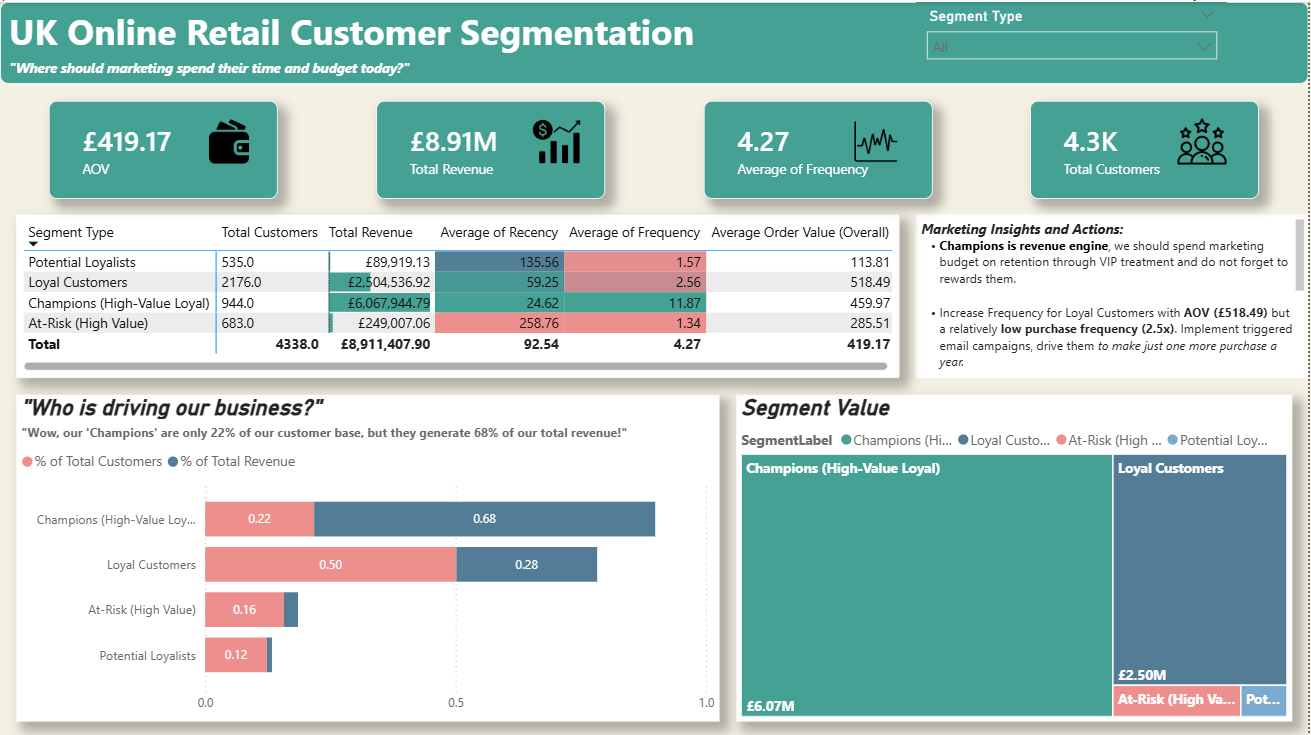

The dashboard page shown, as its layout file describes it:
{"tool":"powerbi","page":{"name":"Page 1","canvas":[1280,720],"ordinal":0},"visuals":[{"type":"cardVisual","fields":{"Data":["Avg(customer_segments.AvgOrderValue)"]},"box":[48,96,224,96],"z":0,"group":"g1"},{"type":"cardVisual","fields":{"Data":["customer_segments.Total Revenue"]},"box":[368,96,224,96],"z":1000,"group":"g2"},{"type":"cardVisual","fields":{"Data":["Avg(customer_segments.Frequency)"]},"box":[688,96,224,96],"z":2000,"group":"g3"},{"type":"cardVisual","fields":{"Data":["customer_segments.Total Customers"]},"box":[1008,96,224,96],"z":3000,"group":"g4"},{"type":"barChart","title":"\"Who is driving our business?\"","fields":{"Category":["customer_segments.SegmentLabel"],"Y":["customer_segments.% of Total Customers","customer_segments.% of Total Revenue"]},"box":[16,384,688,320],"z":4000},{"type":"treemap","title":"Segment Value","fields":{"Group":["customer_segments.SegmentLabel"],"Values":["customer_segments.Total Revenue"]},"box":[720,384,544,320],"z":5000},{"type":"textbox","box":[896,208,384,160],"z":6000},{"type":"textbox","title":"UK Online Retail Customer Segmentation ","box":[0,0,1280,80],"z":7000},{"type":"slicer","fields":{"Values":["customer_segments.SegmentLabel"]},"box":[896,0,304,64],"z":7500},{"type":"pivotTable","fields":{"Rows":["customer_segments.SegmentLabel"],"Values":["customer_segments.Total Customers","customer_segments.Total Revenue","Avg(customer_segments.Recency)","Avg(customer_segments.Frequency)","customer_segments.Average Order Value (Overall)"]},"box":[16,208,864,160],"z":8000},{"type":"image","box":[176,112,96,48],"z":8001,"group":"g1"},{"type":"image","box":[496,112,96,48],"z":8002,"group":"g2"},{"type":"group","id":"g1","title":"Group 1","box":[48,96,224,96],"z":8003},{"type":"group","id":"g2","title":"Group 2","box":[368,96,224,96],"z":8004},{"type":"image","box":[816,112,80,48],"z":8005,"group":"g3"},{"type":"group","id":"g3","title":"Group 3","box":[688,96,224,96],"z":8006},{"type":"image","box":[1152,112,48,48],"z":8007,"group":"g4"},{"type":"group","id":"g4","title":"Group 4","box":[1008,96,224,96],"z":8008}]}

Visuals, with their boxes in screenshot pixels (x1, y1, x2, y2), scaled from the page's 1280x720 canvas onto the 1311x735 screenshot:
cardVisual - Avg(customer_segments.AvgOrderValue): x1=49, y1=98, x2=279, y2=196
cardVisual - customer_segments.Total Revenue: x1=377, y1=98, x2=606, y2=196
cardVisual - Avg(customer_segments.Frequency): x1=705, y1=98, x2=934, y2=196
cardVisual - customer_segments.Total Customers: x1=1032, y1=98, x2=1262, y2=196
""Who is driving our business?"" barChart: x1=16, y1=392, x2=721, y2=719
"Segment Value" treemap: x1=737, y1=392, x2=1295, y2=719
textbox: x1=918, y1=212, x2=1310, y2=376
"UK Online Retail Customer Segmentation " textbox: x1=0, y1=0, x2=1310, y2=82
slicer - customer_segments.SegmentLabel: x1=918, y1=0, x2=1229, y2=65
pivotTable - customer_segments.SegmentLabel x customer_segments.Total Customers: x1=16, y1=212, x2=901, y2=376
image: x1=180, y1=114, x2=279, y2=163
image: x1=508, y1=114, x2=606, y2=163
"Group 1" group: x1=49, y1=98, x2=279, y2=196
"Group 2" group: x1=377, y1=98, x2=606, y2=196
image: x1=836, y1=114, x2=918, y2=163
"Group 3" group: x1=705, y1=98, x2=934, y2=196
image: x1=1180, y1=114, x2=1229, y2=163
"Group 4" group: x1=1032, y1=98, x2=1262, y2=196
